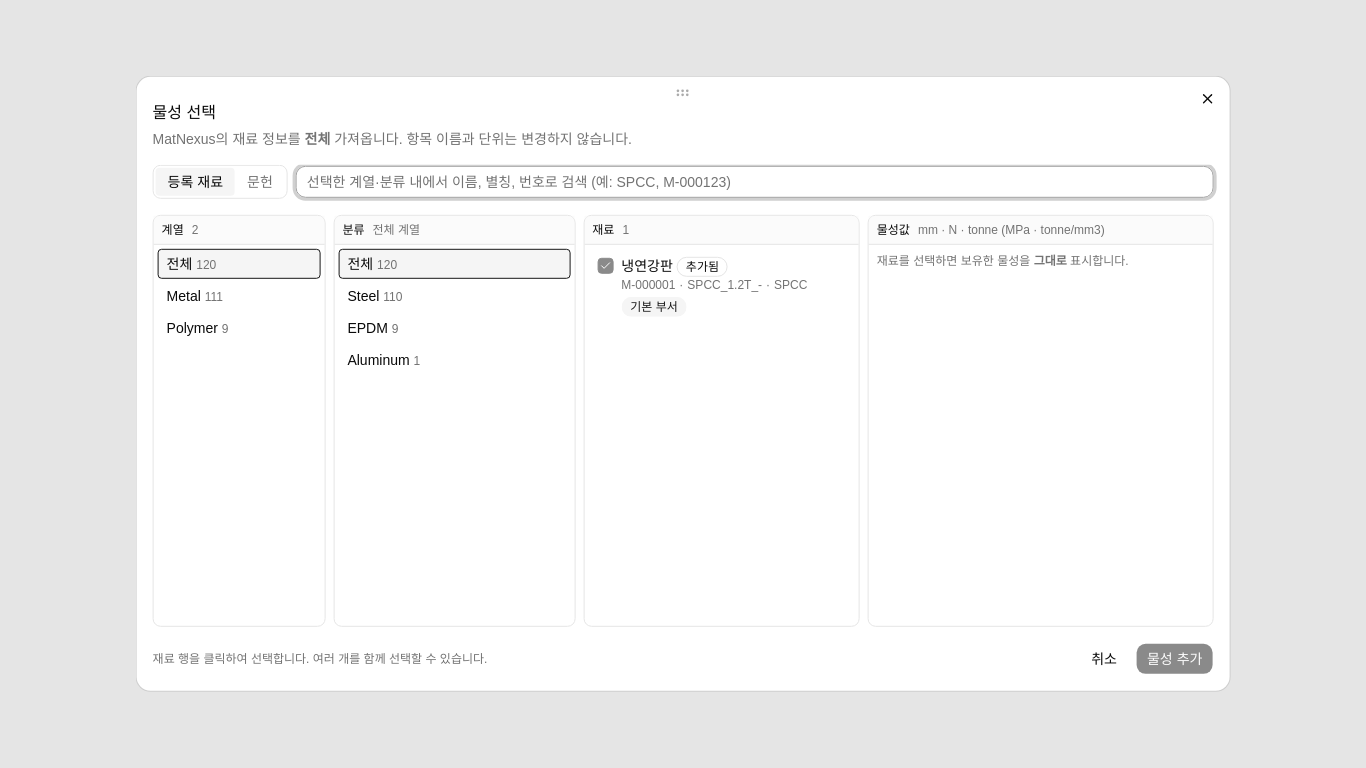
it: 이미 담긴 재료는 「추가됨」 으로 보이고 다시 담지 않는다
Check: the icon "추가됨" is shown, box [677,257,728,277]
Check: the checkbox named "냉연강판 선택" is checked, box [588,249,855,324]
Note: 눌러도 값만 보이고 담기지 않는다 — 같은 재료가 두 번 실리면 덱 번호가 둘이 된다.
Click the text "냉연강판" at {"x": 647, "y": 266}, box [621,258,673,274]
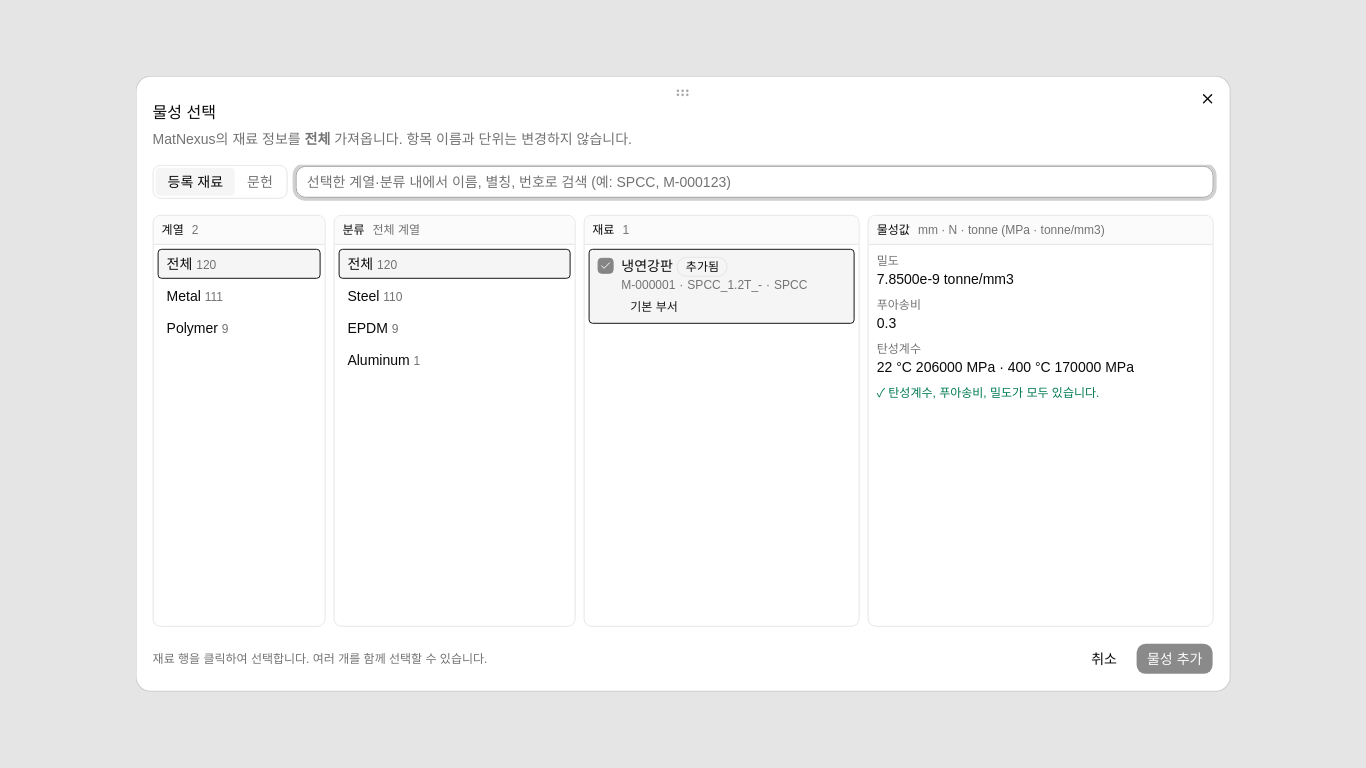
Check: the button "물성 추가" is disabled, box [1136,643,1213,675]
Check: the text "22 °C 206000 MPa · 400 °C 170000 MPa" is shown, box [877,359,1134,375]
